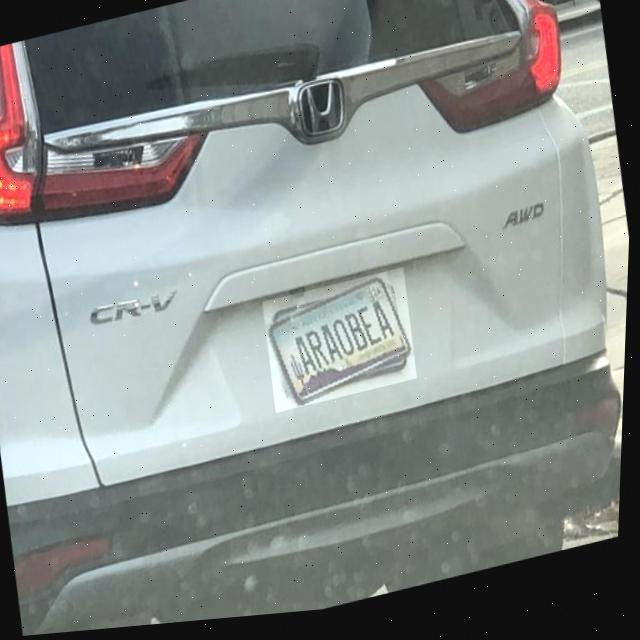LicensePlate: (268, 280, 417, 413)
